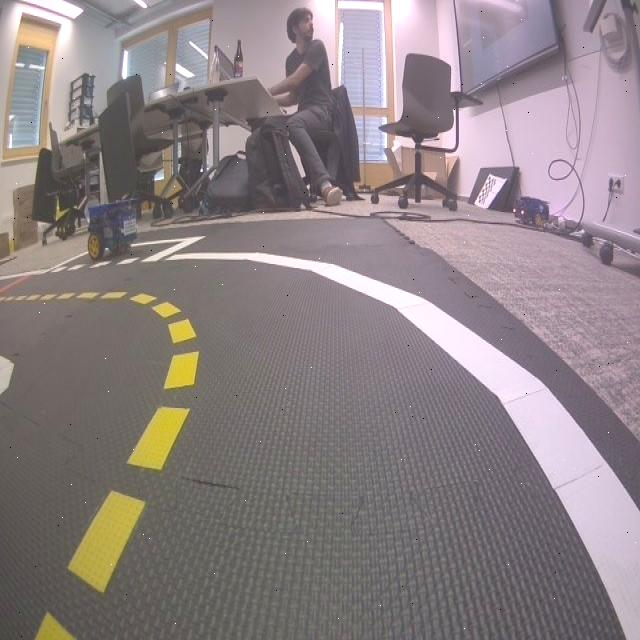bot: (85, 199, 138, 260)
park: (43, 237, 205, 273)
